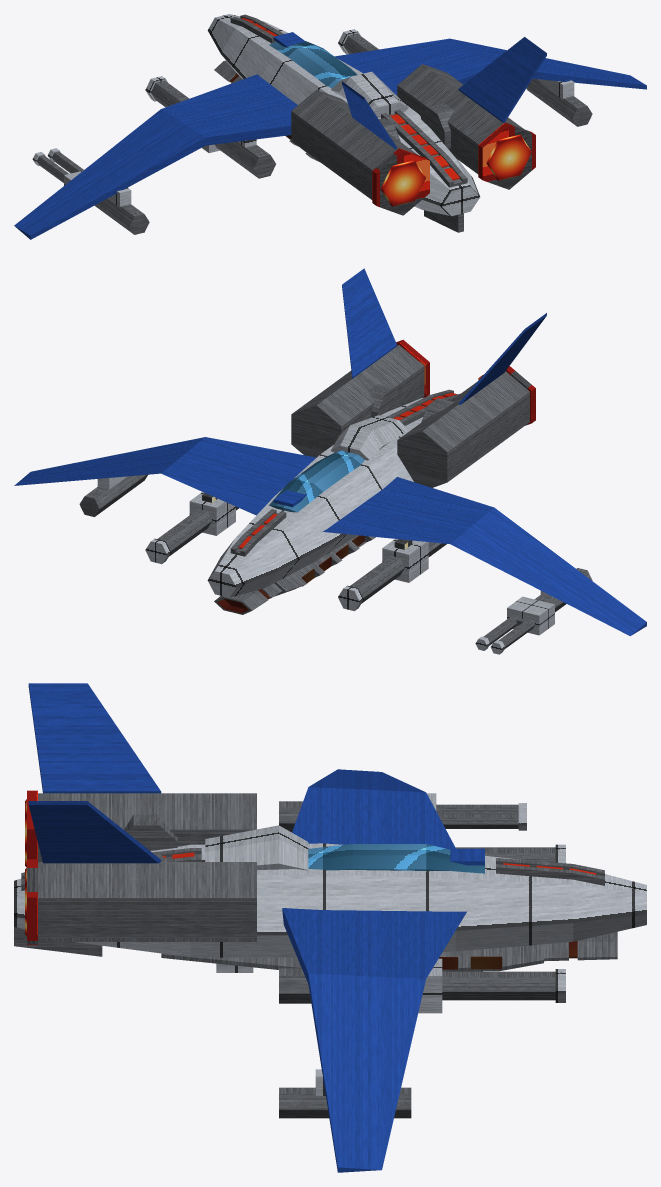
Rendered from buzzard.glb.
3 views of the same model, one above another, from view 1: azimuth 30°, elevation 25°; view 2: azimuth 150°, elevation 25°; view 3: azimuth 270°, elevation 25° (orthographic). The views are drawn at different scales.
Visible parts, largest first — view 1: wing_outer, fuselage, nacelle, wing_inner, nacelle.001, wing_inner.001, fin.001, wing_outer.001, canopy, booster_ring.001, booster_ring, intake (+15 smaller); view 2: fuselage, nacelle, wing_outer, wing_inner.001, wing_inner, nacelle.001, fin.001, wing_outer.001, canopy, intake, receiver, fin (+8 smaller); view 3: fuselage, nacelle.001, wing_outer.001, wing_inner.001, fin, wing_inner, nacelle, fin.001, canopy, intake, barrel.003, cannon_fairing (+12 smaller).
Part boxes in pixels (left/top/right/bottom): wing_outer: left=14, top=109, right=205, bottom=239; fuselage: left=207, top=14, right=480, bottom=216; nacelle: left=291, top=90, right=417, bottom=199; wing_inner: left=161, top=74, right=297, bottom=145; nacelle.001: left=397, top=64, right=523, bottom=173; wing_inner.001: left=334, top=38, right=489, bottom=95; fin.001: left=458, top=37, right=546, bottom=122; wing_outer.001: left=450, top=38, right=646, bottom=89; canopy: left=269, top=41, right=357, bottom=88; booster_ring.001: left=478, top=122, right=535, bottom=189; booster_ring: left=372, top=148, right=429, bottom=215; intake: left=331, top=71, right=408, bottom=117; fuselage: left=207, top=397, right=423, bottom=597; nacelle: left=397, top=371, right=529, bottom=487; wing_outer: left=450, top=507, right=646, bottom=636; wing_inner.001: left=161, top=437, right=316, bottom=515; wing_inner: left=323, top=477, right=493, bottom=543; nacelle.001: left=291, top=345, right=424, bottom=457; fin.001: left=342, top=268, right=396, bottom=378; wing_outer.001: left=14, top=437, right=204, bottom=485; canopy: left=269, top=450, right=364, bottom=512; intake: left=331, top=415, right=408, bottom=460; receiver: left=382, top=539, right=428, bottom=582; fin: left=458, top=313, right=546, bottom=404; fuselage: left=14, top=843, right=646, bottom=957; nacelle.001: left=38, top=862, right=256, bottom=941; wing_outer.001: left=308, top=973, right=425, bottom=1172; wing_inner.001: left=282, top=908, right=466, bottom=983; fin: left=28, top=683, right=161, bottom=793; wing_inner: left=292, top=787, right=455, bottom=848; nacelle: left=38, top=793, right=256, bottom=861; fin.001: left=28, top=801, right=161, bottom=863; canopy: left=308, top=844, right=484, bottom=873; intake: left=205, top=825, right=308, bottom=870; barrel.003: left=442, top=971, right=555, bottom=1000; cannon_fairing: left=161, top=944, right=543, bottom=971.
Bounding box in the file's own units: 128 × 34.72 × 86.
11 materials, 11 textured.
